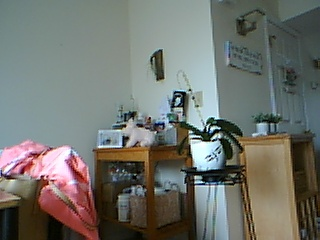piggy: (121, 117, 157, 148)
